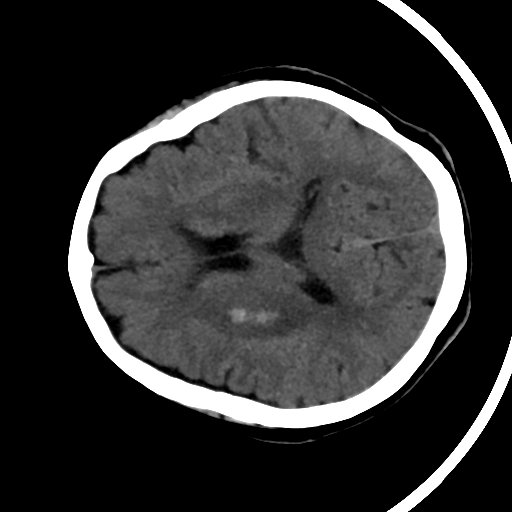a: (186, 289, 323, 346)
